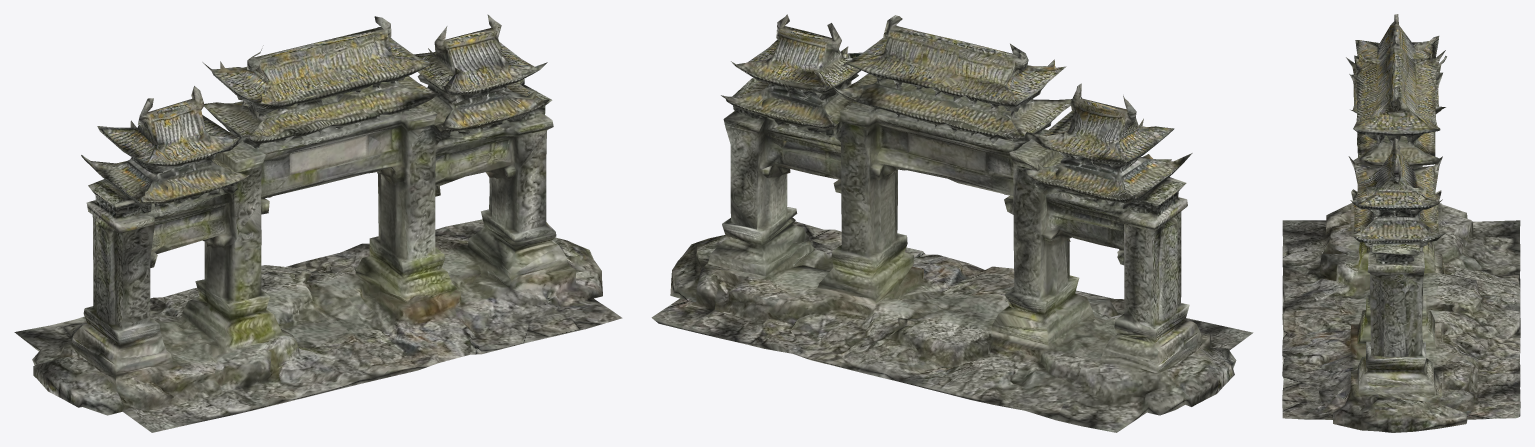
Rendered from sky_gate.lod1.glb.
The picture shows the model from 3 angles, left to right: view 1: azimuth 30°, elevation 25°; view 2: azimuth 150°, elevation 25°; view 3: azimuth 270°, elevation 25°; orthographic projection. The views are drawn at different scales.
Visible parts, largest first — view 1: clean; view 2: clean; view 3: clean.
Boxes of the visible parts, bbox=[...] form: clean: bbox=[14, 14, 622, 432]; clean: bbox=[651, 14, 1253, 432]; clean: bbox=[1282, 14, 1520, 432].
Bounding box in the file's own units: 281 × 150 × 125.
1 material, 1 textured.
